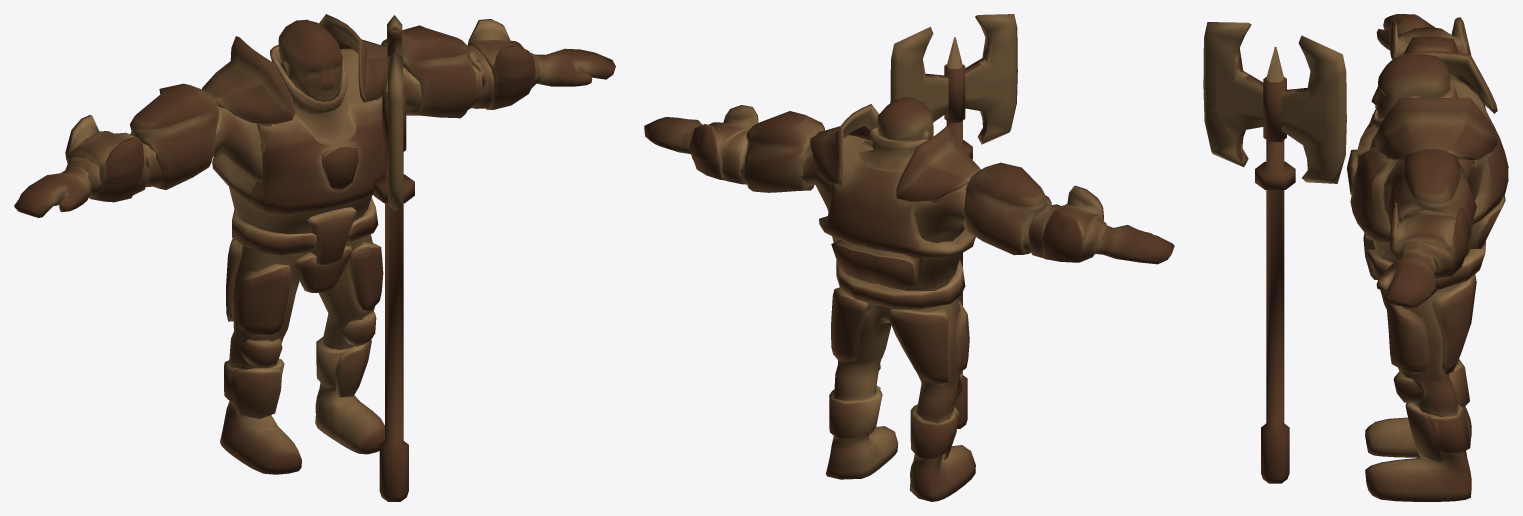
File: raban_statue_03.fbx
The picture shows the model from 3 angles, left to right: view 1: azimuth 30°, elevation 25°; view 2: azimuth 150°, elevation 25°; view 3: azimuth 270°, elevation 25°; orthographic projection. The views are drawn at different scales.
Visible parts, largest first — view 1: Raban.003, axe.003; view 2: Raban.003, axe.003; view 3: Raban.003, axe.003.
Boxes of the visible parts, x1=… form: Raban.003: x1=14, y1=14, x2=615, y2=474; axe.003: x1=373, y1=15, x2=414, y2=501; Raban.003: x1=644, y1=97, x2=1174, y2=501; axe.003: x1=890, y1=14, x2=1017, y2=428; Raban.003: x1=1347, y1=14, x2=1508, y2=501; axe.003: x1=1203, y1=22, x2=1346, y2=483.
Size of the model in its own units: 4659 by 3410 by 2093.
